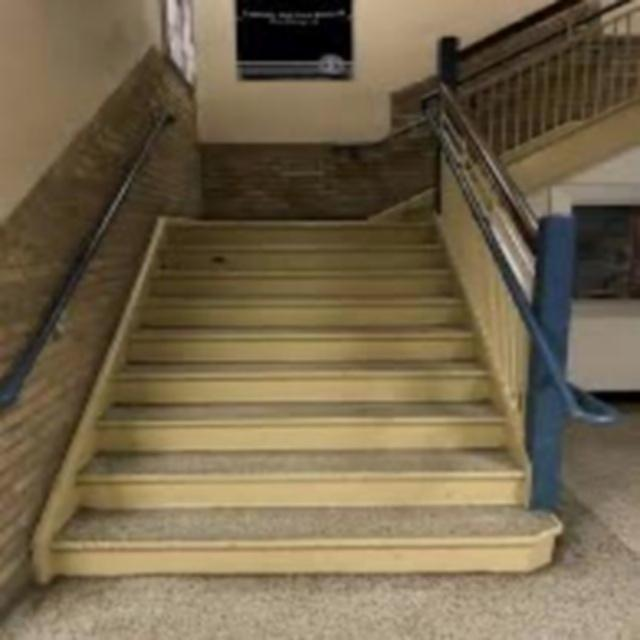stair: (99, 156, 504, 578)
